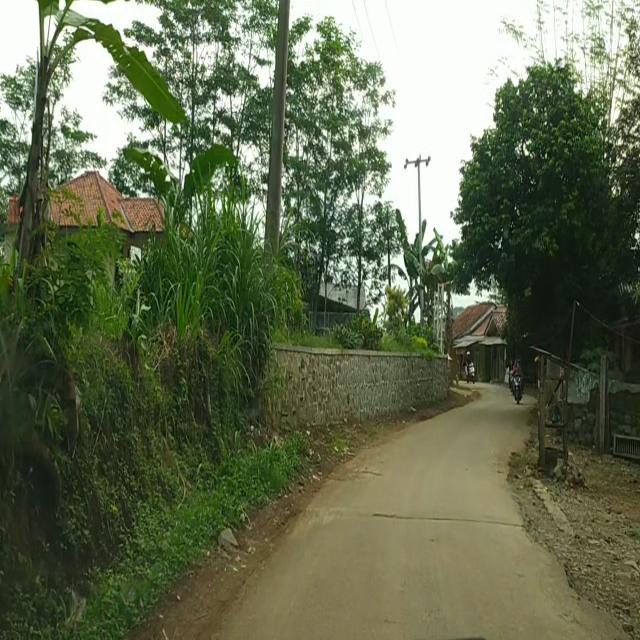Sewer Cover: (358, 508, 524, 528)
